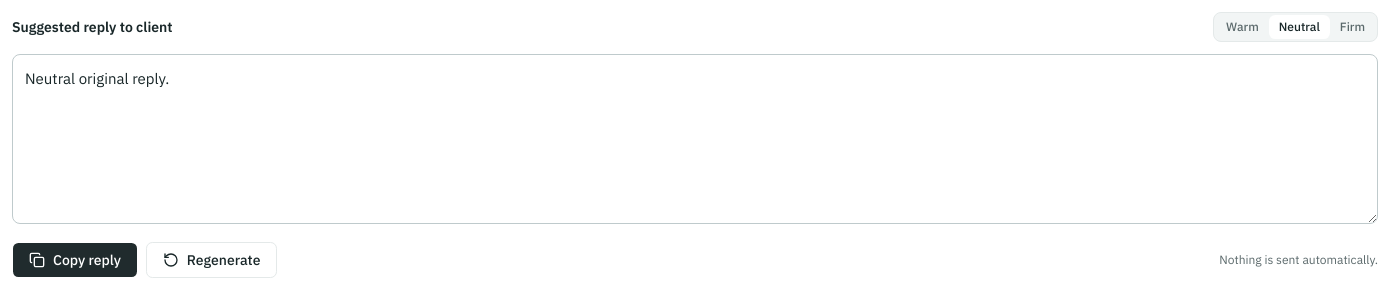
Test case: ClientReply regeneration › sends the original request and current visible reply, then replaces it
The width and height of the screenshot is (1390, 295).
Replace the text in the text box named "Editable reply to client" with "My edited visible reply." at (695, 139), box [12,54,1378,224]
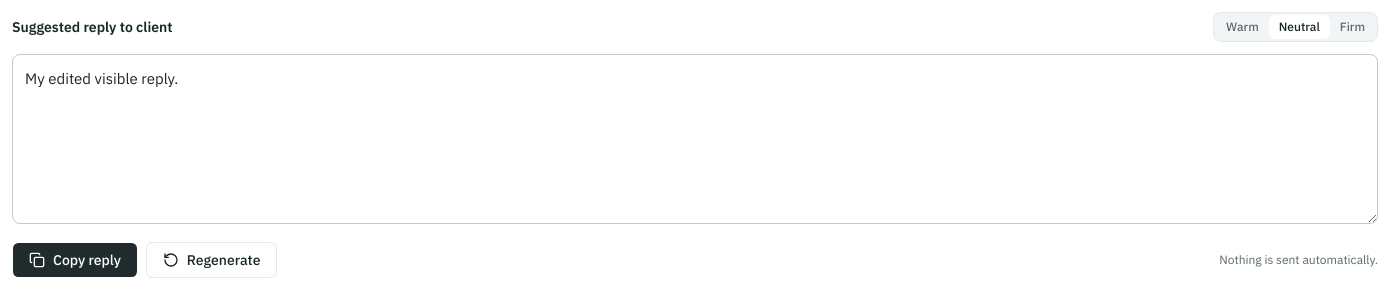
Click the button "Regenerate" at (212, 260), box [146,242,278,278]
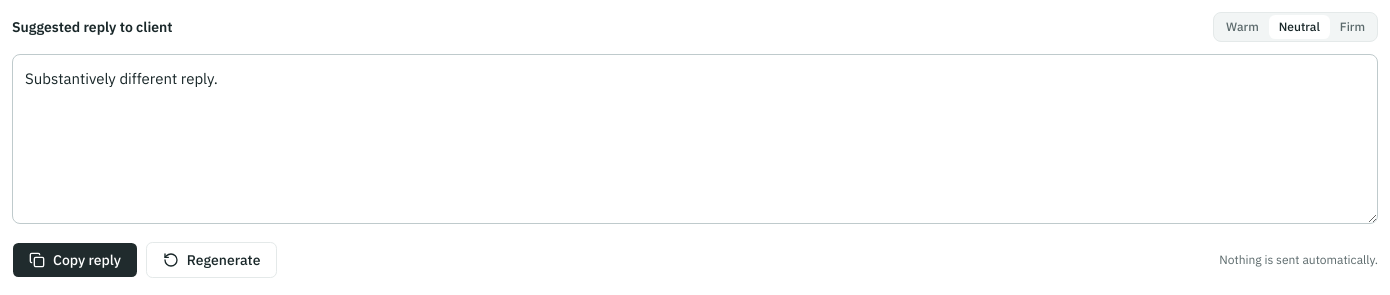
Now the text box named "Editable reply to client" holds "Substantively different reply.", box [12,54,1378,224]
